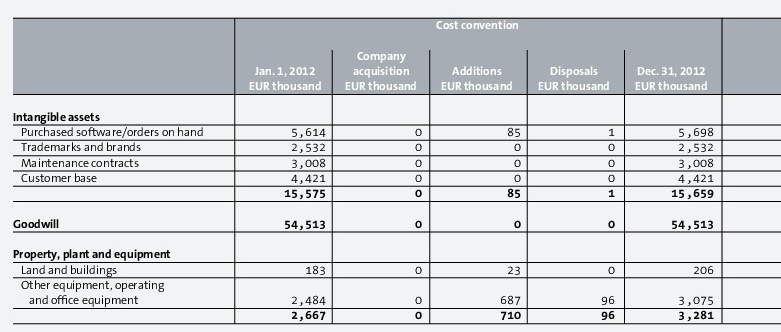table: (0, 0, 781, 332)
